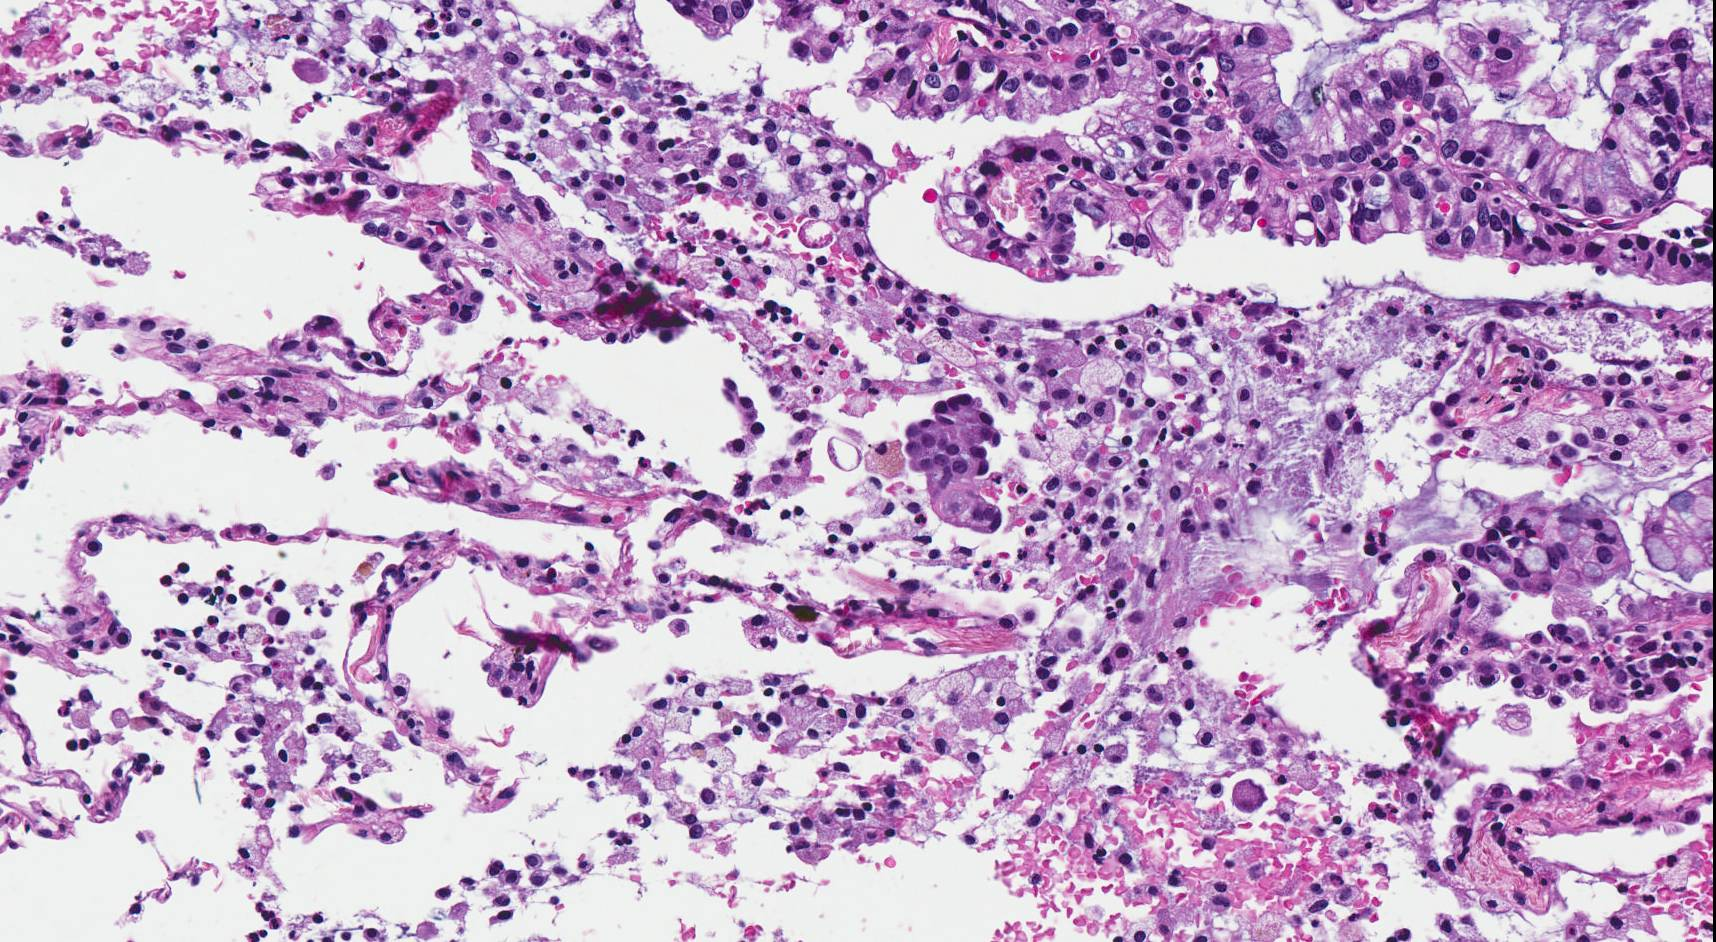stas: (1451, 488, 1635, 598), (905, 391, 1005, 540)
